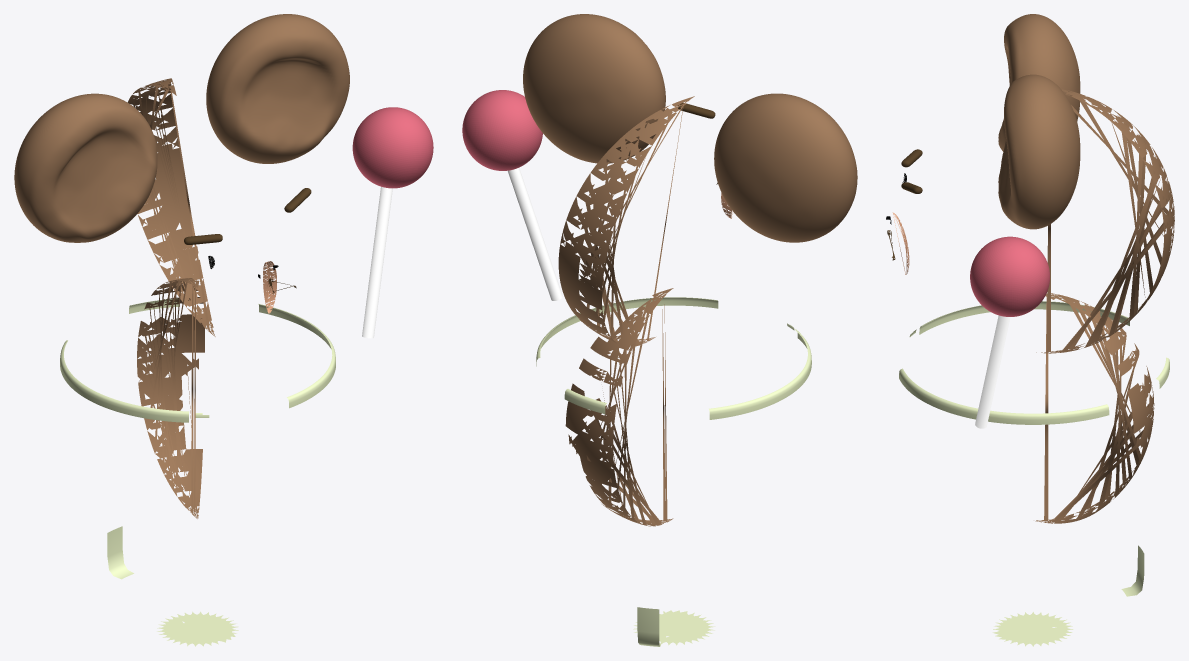
Rendered from oso.glb.
3 views of the same model, side by side, from view 1: azimuth 30°, elevation 25°; view 2: azimuth 150°, elevation 25°; view 3: azimuth 270°, elevation 25° (orthographic).
Visible parts, largest first — view 1: Sphere.004, Sphere.003, Sphere, Sphere.005, Circle, Vert; view 2: Sphere.004, Sphere, Sphere.003, Sphere.005, Circle; view 3: Sphere.004, Sphere, Sphere.003, Sphere.005, Circle.
Part boxes in pixels (bbox=[...]): Sphere.004: bbox=[14, 14, 349, 242]; Sphere.003: bbox=[137, 278, 204, 518]; Sphere: bbox=[127, 78, 215, 336]; Sphere.005: bbox=[352, 107, 433, 338]; Circle: bbox=[60, 298, 335, 646]; Vert: bbox=[184, 188, 311, 244]; Sphere.004: bbox=[523, 14, 857, 242]; Sphere: bbox=[558, 96, 694, 346]; Sphere.003: bbox=[565, 288, 673, 526]; Sphere.005: bbox=[462, 90, 562, 300]; Circle: bbox=[536, 297, 811, 646]; Sphere.004: bbox=[998, 14, 1080, 229]; Sphere: bbox=[1036, 89, 1174, 353]; Sphere.003: bbox=[1035, 293, 1154, 523]; Sphere.005: bbox=[970, 236, 1049, 428]; Circle: bbox=[899, 301, 1169, 646].
Size of the model in its own units: 3.31 by 4.7 by 2.1.
